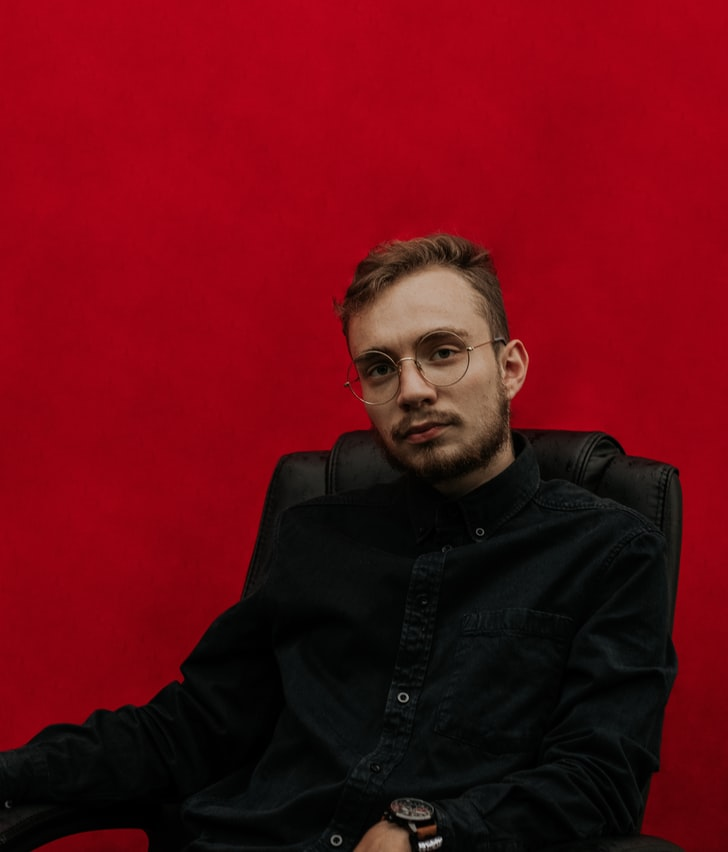beard: (370, 408, 510, 477)
glasses: (338, 326, 477, 404)
